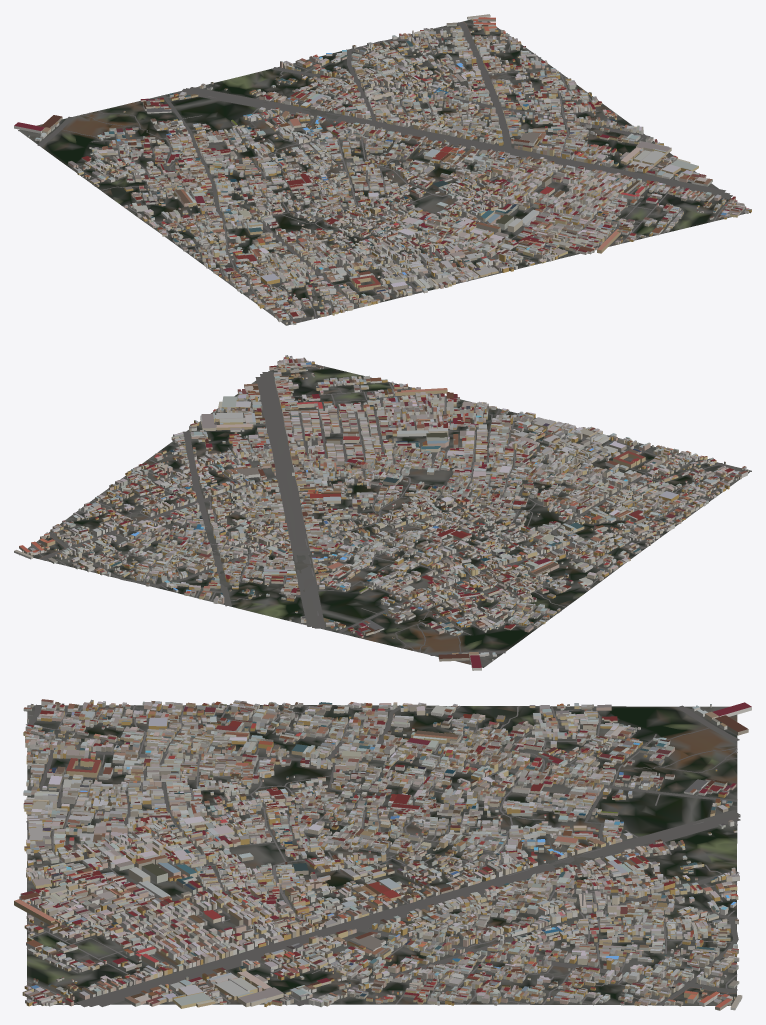
The picture shows the model from 3 angles, top to bottom: view 1: azimuth 30°, elevation 25°; view 2: azimuth 150°, elevation 25°; view 3: azimuth 270°, elevation 25°; orthographic projection. The views are drawn at different scales.
Visible parts, largest first — view 1: buildings, ground, roads; view 2: buildings, ground, roads; view 3: buildings, ground, roads.
Part boxes in pixels (bbox=[...]): buildings: bbox=[14, 14, 751, 324]; ground: bbox=[18, 19, 750, 325]; roads: bbox=[37, 21, 745, 323]; buildings: bbox=[14, 355, 748, 670]; ground: bbox=[19, 358, 751, 667]; roads: bbox=[39, 366, 748, 655]; buildings: bbox=[14, 699, 751, 1010]; ground: bbox=[27, 705, 737, 1005]; roads: bbox=[26, 704, 740, 1007].
Size of the model in its own units: 1427 by 28.34 by 1456.
